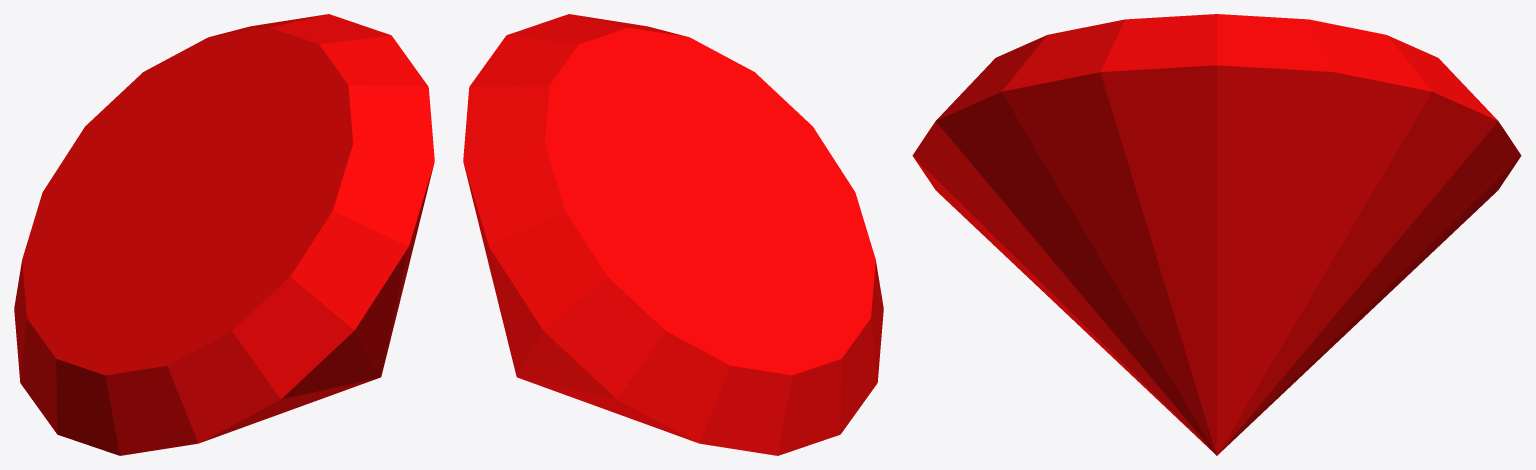
File: Ruby.fbx
The picture shows the model from 3 angles, left to right: view 1: azimuth 30°, elevation 25°; view 2: azimuth 150°, elevation 25°; view 3: azimuth 270°, elevation 25°; orthographic projection. The views are drawn at different scales.
Parts seen in each view (by area): view 1: Ruby; view 2: Ruby; view 3: Ruby.
Boxes of the visible parts, bbox=[...] form: Ruby: bbox=[14, 14, 434, 455]; Ruby: bbox=[463, 14, 883, 455]; Ruby: bbox=[912, 14, 1521, 455].
Size of the model in its own units: 0.3007 by 0.2981 by 0.4048.
1 material, 1 textured.
